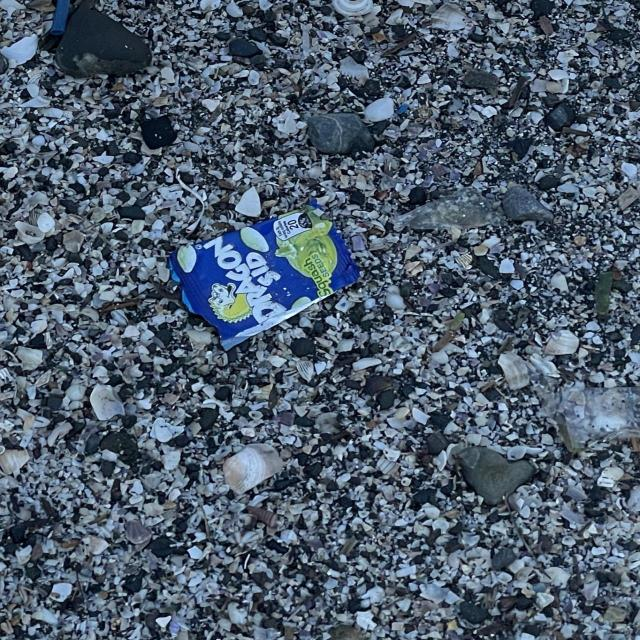plastic_waste: (171, 210, 364, 355)
